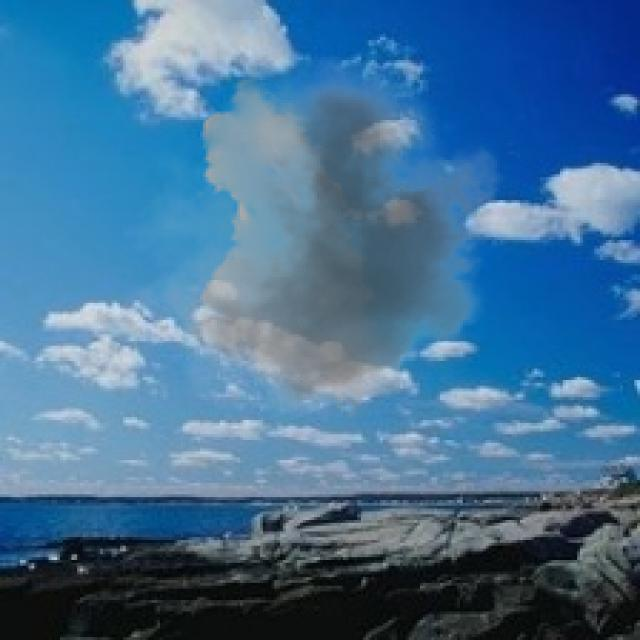smoke: (120, 54, 520, 432)
